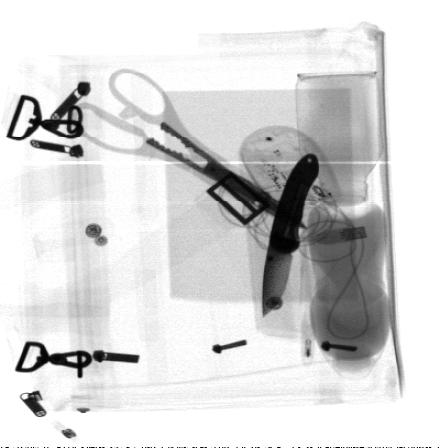Knife: (262, 151, 320, 319)
Scissors: (68, 66, 310, 230)
